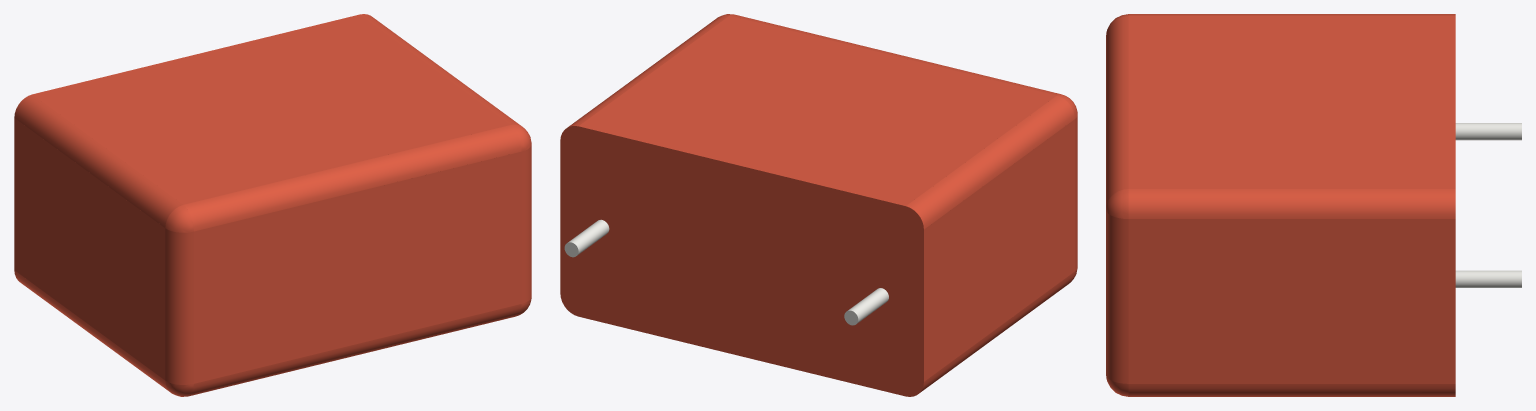
Rendered from C_Rect_L13.0mm_W6.5mm_P7.50mm_P10.00mm.glb.
3 renders of one model, left to right at view 1: azimuth 30°, elevation 25°; view 2: azimuth 150°, elevation 25°; view 3: azimuth 270°, elevation 25°, orthographic. The views are drawn at different scales.
Visible parts, largest first — view 1: Shape_IndexedFaceSet.007, Shape_IndexedFaceSet.009, Shape_IndexedFaceSet, Shape_IndexedFaceSet.017, Shape_IndexedFaceSet.004, Shape_IndexedFaceSet.002, Shape_IndexedFaceSet.015, Shape_IndexedFaceSet.016, Shape_IndexedFaceSet.001, Shape_IndexedFaceSet.011, Shape_IndexedFaceSet.008; view 2: Shape_IndexedFaceSet.003, Shape_IndexedFaceSet.009, Shape_IndexedFaceSet, Shape_IndexedFaceSet.004, Shape_IndexedFaceSet.001, Shape_IndexedFaceSet.011, Shape_IndexedFaceSet.017, Shape_IndexedFaceSet.014, Shape_IndexedFaceSet.013, Shape_IndexedFaceSet.002; view 3: Shape_IndexedFaceSet.009, Shape_IndexedFaceSet.012, Shape_IndexedFaceSet.011, Shape_IndexedFaceSet.010, Shape_IndexedFaceSet.017, Shape_IndexedFaceSet.016, Shape_IndexedFaceSet.013, Shape_IndexedFaceSet.014, Shape_IndexedFaceSet.004, Shape_IndexedFaceSet.019.
Boxes of the visible parts, box(x1,y1,x2,y2) form: Shape_IndexedFaceSet.007: box(194, 152, 521, 383); Shape_IndexedFaceSet.009: box(33, 14, 510, 204); Shape_IndexedFaceSet: box(14, 118, 165, 379); Shape_IndexedFaceSet.017: box(184, 125, 521, 231); Shape_IndexedFaceSet.004: box(14, 94, 182, 227); Shape_IndexedFaceSet.002: box(165, 228, 193, 384); Shape_IndexedFaceSet.015: box(189, 304, 521, 396); Shape_IndexedFaceSet.016: box(521, 145, 531, 303); Shape_IndexedFaceSet.001: box(14, 270, 170, 392); Shape_IndexedFaceSet.011: box(360, 14, 520, 125); Shape_IndexedFaceSet.008: box(165, 205, 193, 232); Shape_IndexedFaceSet.003: box(560, 126, 923, 396); Shape_IndexedFaceSet.009: box(579, 16, 1056, 205); Shape_IndexedFaceSet: box(924, 119, 1074, 381); Shape_IndexedFaceSet.004: box(906, 96, 1074, 229); Shape_IndexedFaceSet.001: box(920, 271, 1074, 392); Shape_IndexedFaceSet.011: box(568, 15, 728, 127); Shape_IndexedFaceSet.017: box(730, 14, 1060, 95); Shape_IndexedFaceSet.014: box(568, 219, 609, 255); Shape_IndexedFaceSet.013: box(848, 288, 888, 323); Shape_IndexedFaceSet.002: box(1075, 116, 1077, 270); Shape_IndexedFaceSet.009: box(1128, 16, 1455, 188); Shape_IndexedFaceSet.012: box(1128, 219, 1455, 383); Shape_IndexedFaceSet.011: box(1128, 189, 1455, 218); Shape_IndexedFaceSet.010: box(1128, 384, 1455, 396); Shape_IndexedFaceSet.017: box(1106, 16, 1128, 207); Shape_IndexedFaceSet.016: box(1106, 210, 1128, 383); Shape_IndexedFaceSet.013: box(1455, 123, 1521, 140); Shape_IndexedFaceSet.014: box(1455, 270, 1521, 287); Shape_IndexedFaceSet.004: box(1128, 14, 1455, 15); Shape_IndexedFaceSet.019: box(1106, 189, 1128, 218).
Size of the model in its own units: 5.12 by 2.56 by 4.69.
